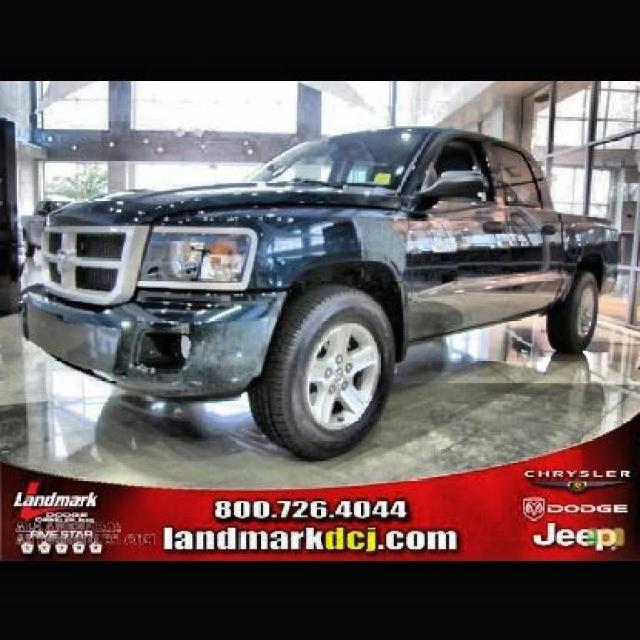black: (38, 142, 640, 441)
